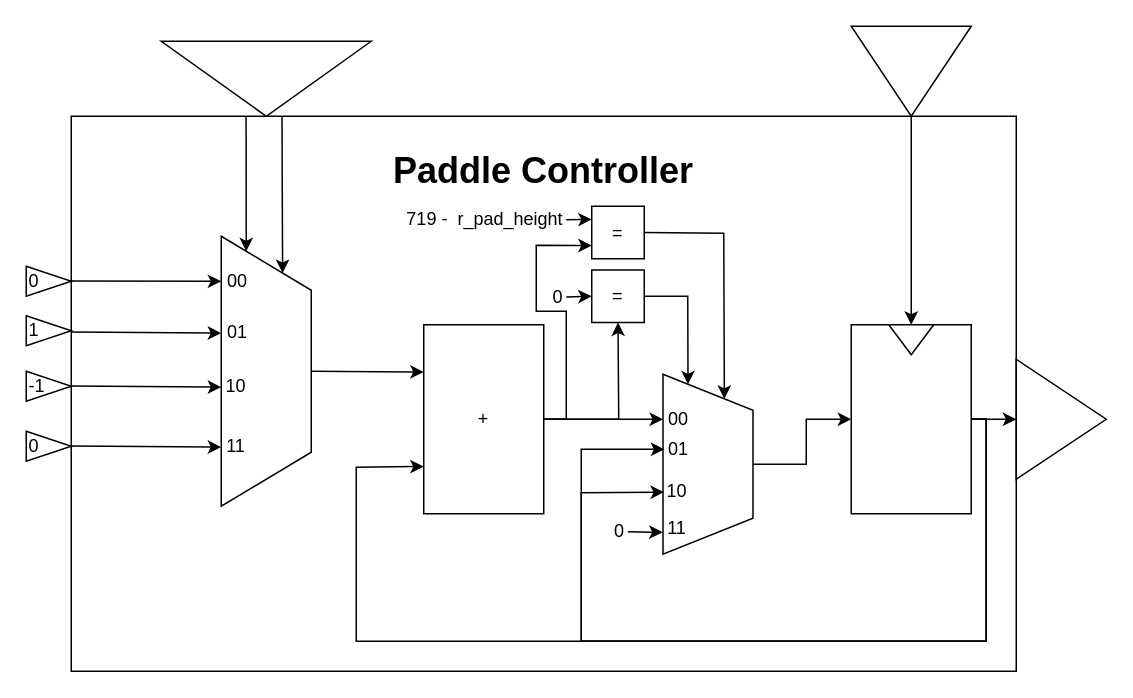
Image size: 1133x698. Some labels were removed from this diagram. Each missing label, with the centre of its shape:
"P2 Up, P2 Dn" belongs at (265,78).
"Pclk" belongs at (910,70).
"rpad_top" belongs at (1060,418).
